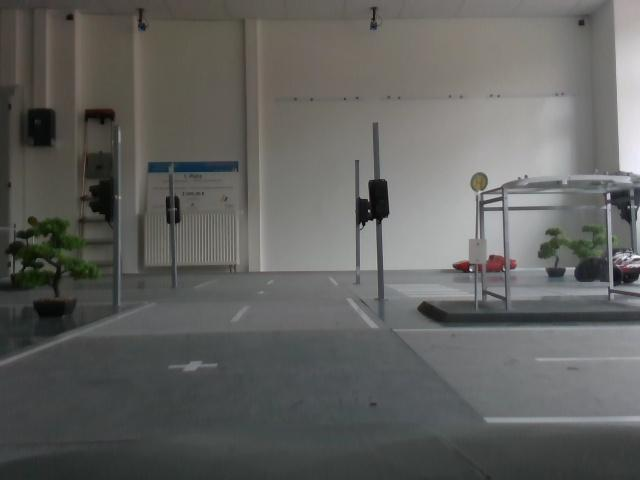car: (458, 252, 523, 275)
potted plant: (14, 216, 95, 323), (586, 223, 619, 290), (542, 226, 579, 279)
traffic light: (358, 176, 396, 229), (91, 181, 124, 229)
